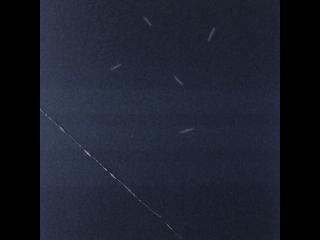crack: (40, 110, 183, 240)
scratch: (174, 122, 200, 139), (202, 24, 222, 45), (166, 72, 191, 88), (105, 58, 127, 76), (140, 13, 157, 32)
